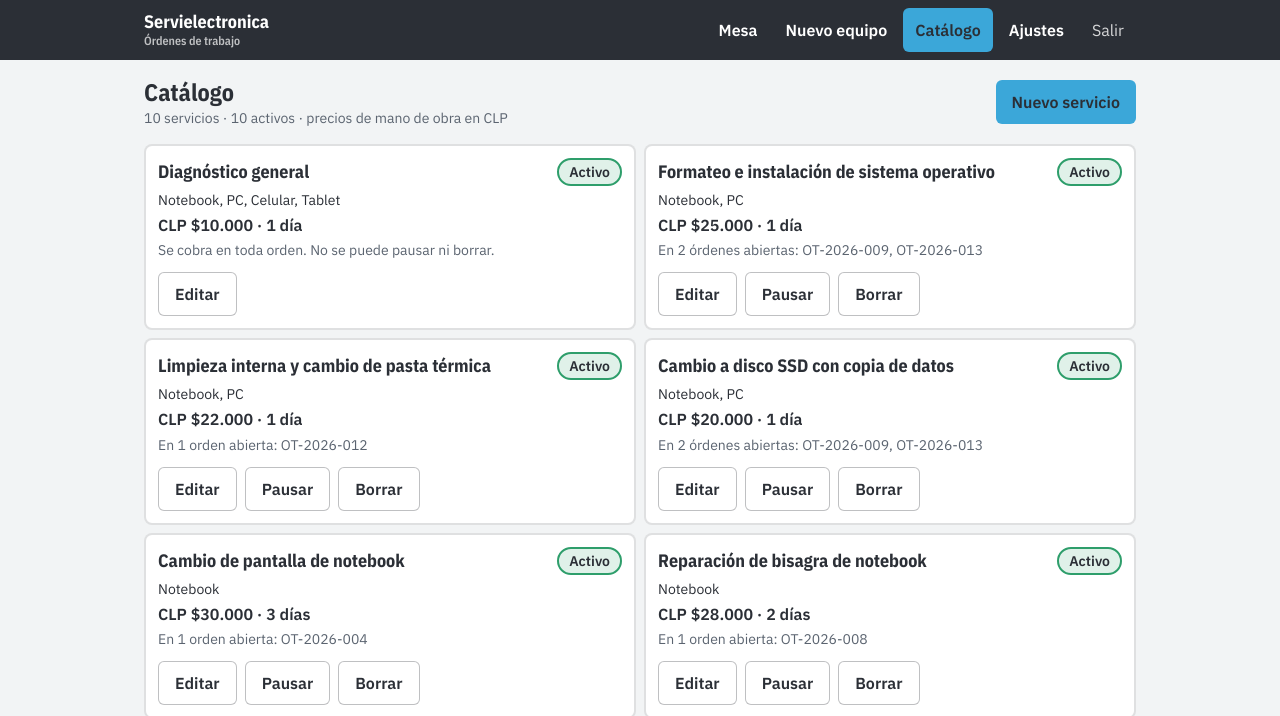
Test: criterio 10: alta, edición y pausa con atributos obligatorios › si falta un atributo obligatorio no guarda, avisa y conserva lo escrito
Click the button "Nuevo servicio".
click(1066, 102)  # box [996,80,1136,124]
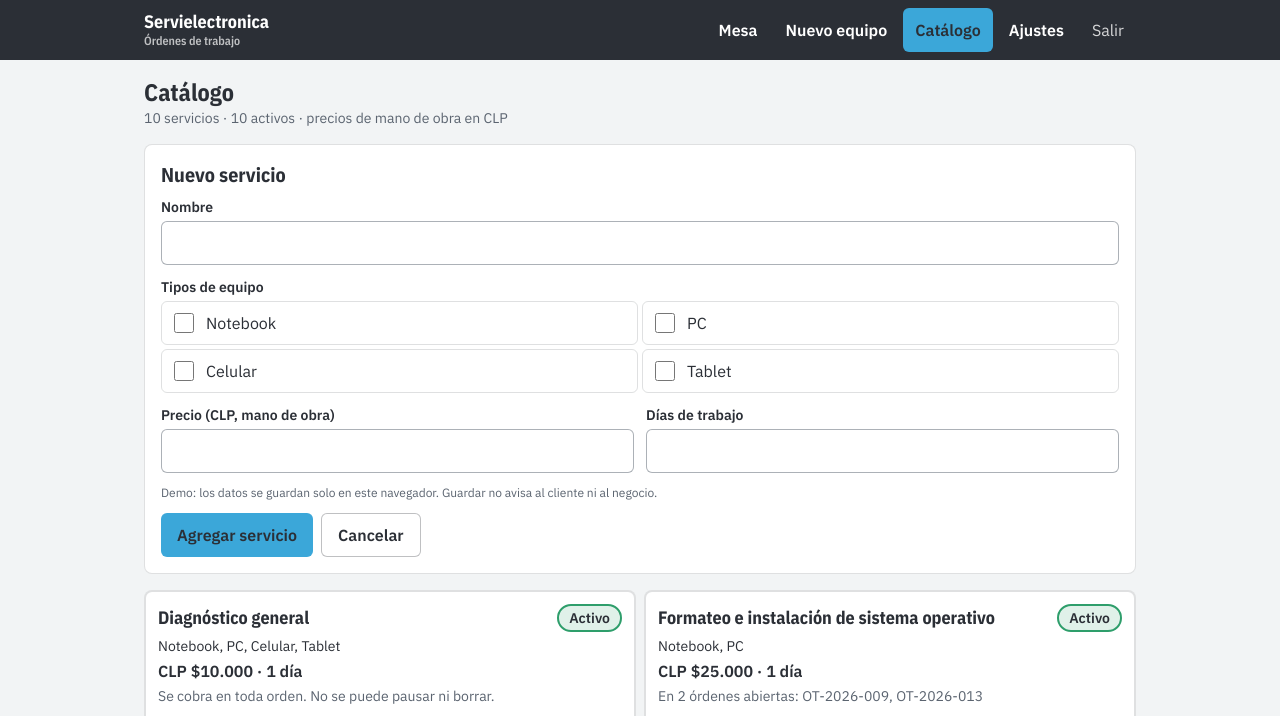
Type "Servicio sin precio" into the field labelled "Nombre".
click(640, 243); type("Servicio sin precio")  # box [161,221,1119,265]
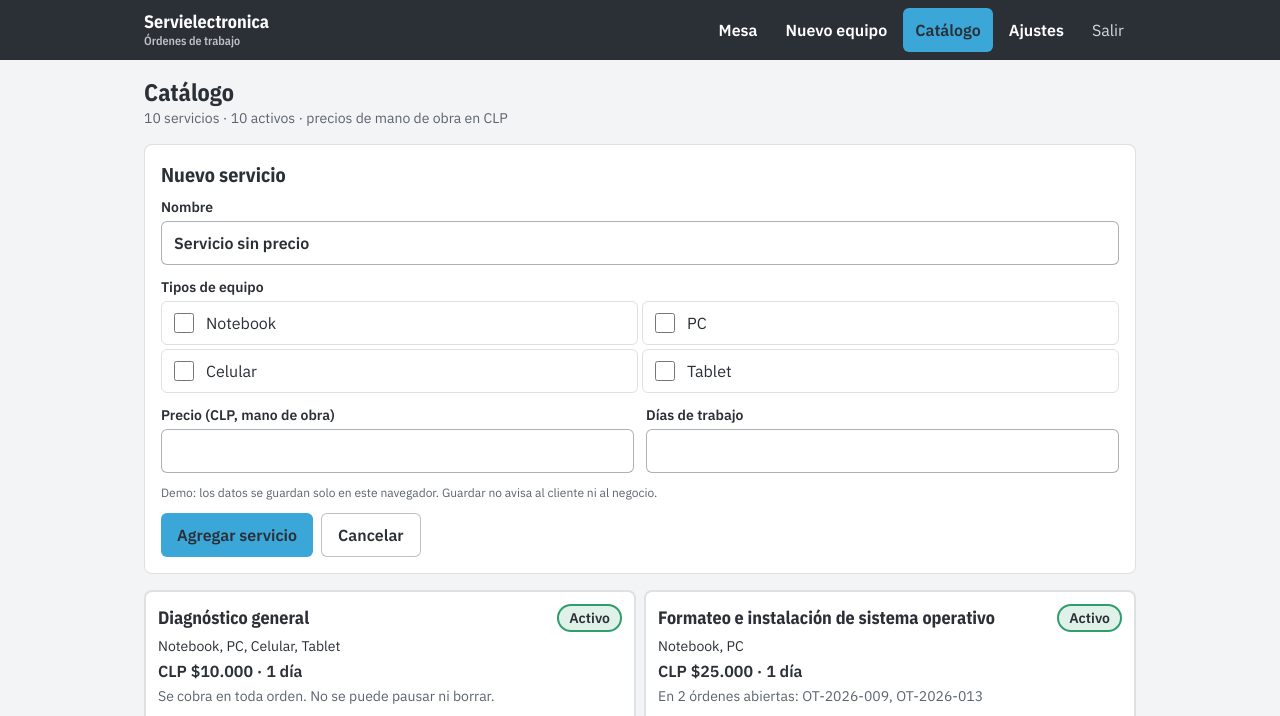
Click the checkbox labelled "Celular".
click(184, 371)  # box [174,361,194,381]
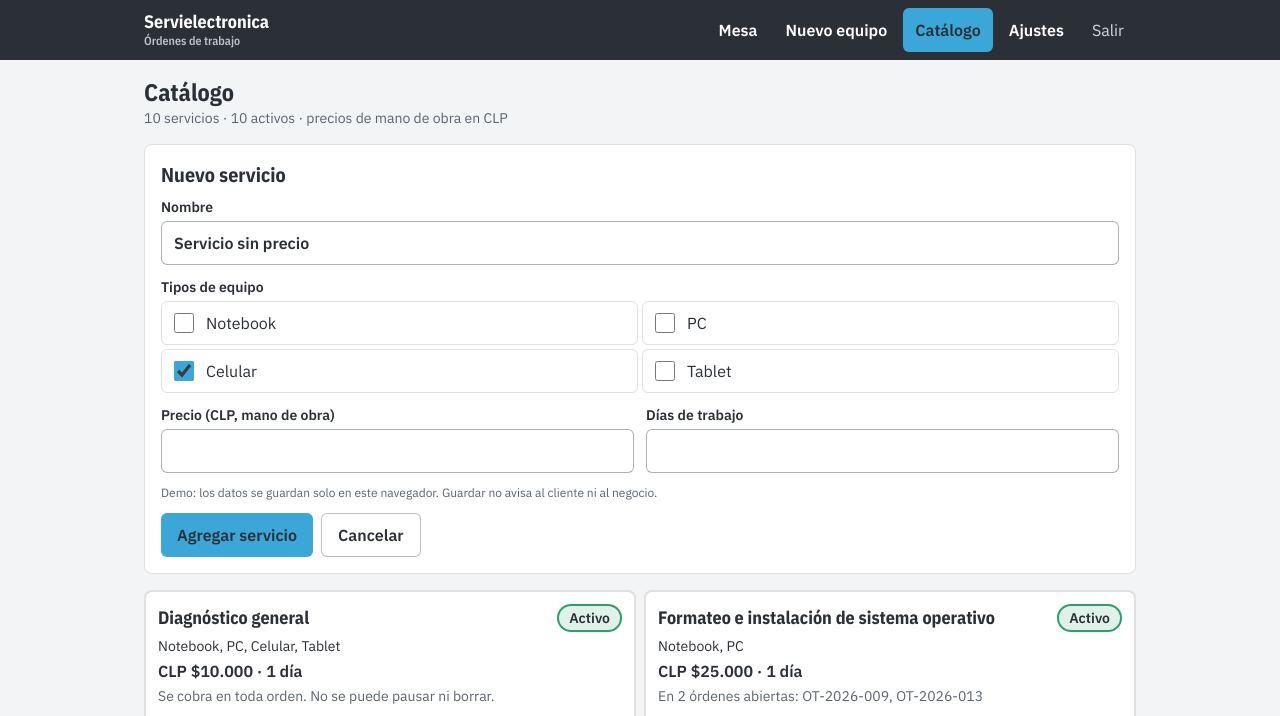
Type "1" into the field labelled "Días de trabajo".
click(882, 451); type("1")  # box [646,429,1119,473]
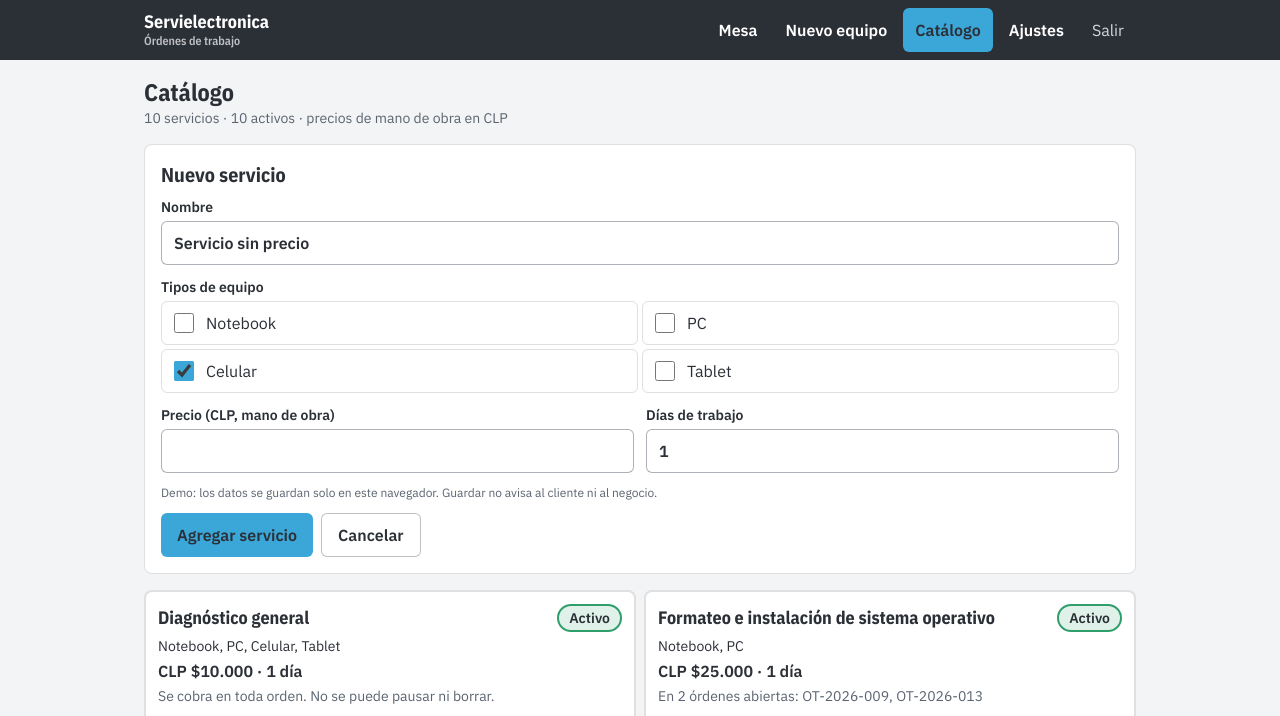
Click the button "Agregar servicio".
click(237, 535)  # box [161,513,313,557]
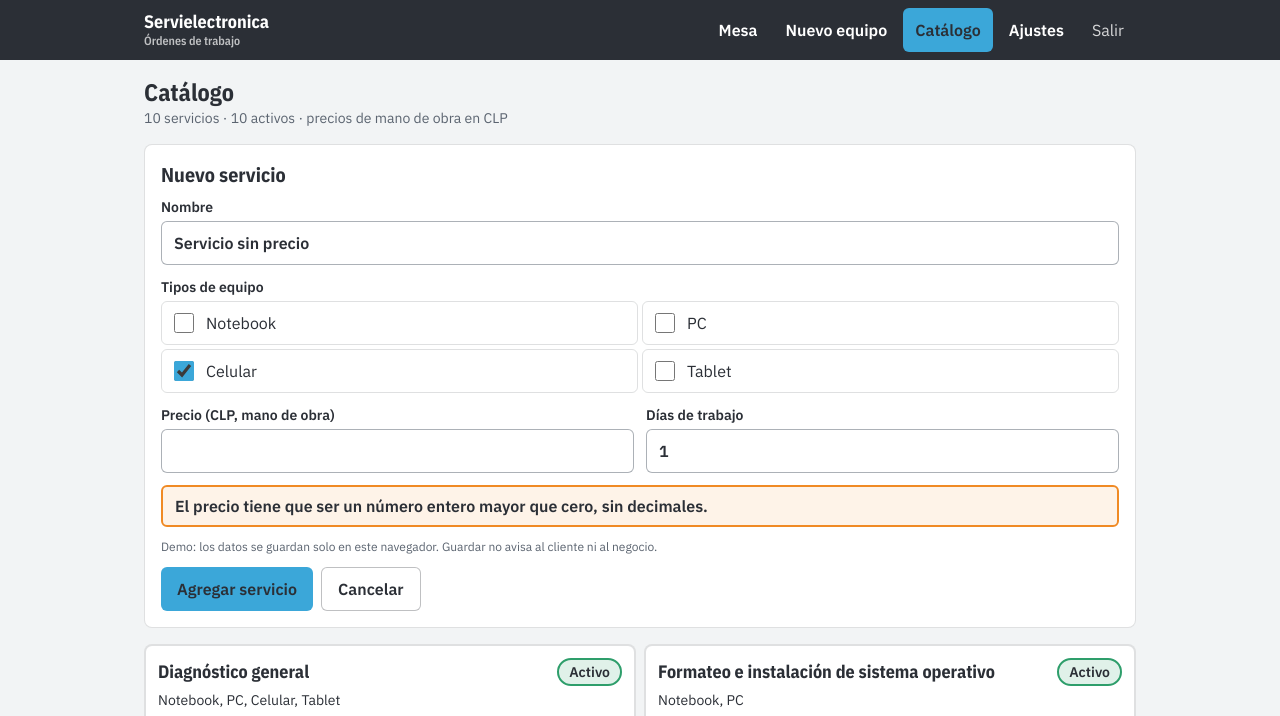
Expected: the text "10 servicios · 10 activos · precios de mano de obra en CLP" is shown, [144,108,508,128]
Result: the message shows "precio" at [175,496,708,516]
